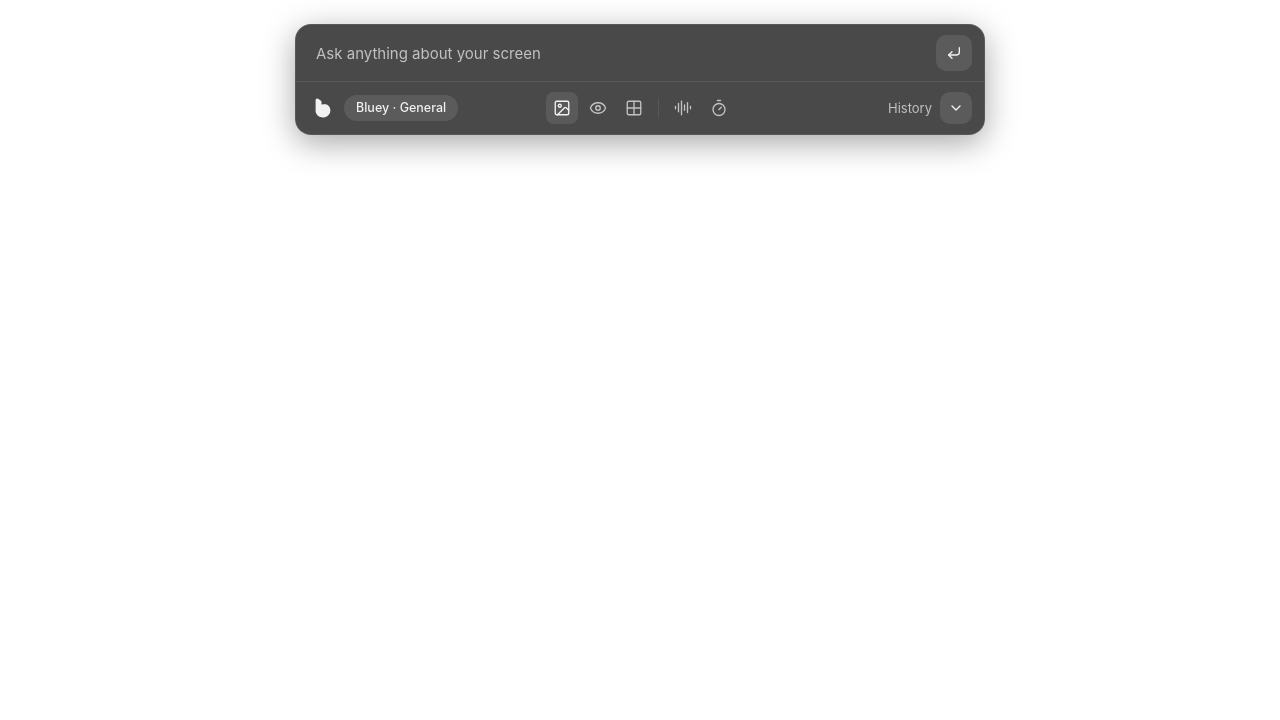
it: HudPanel › submits a typed question to the engine and streams the draft
The image size is (1280, 720).
In the field with placeholder "Ask anything about your screen": (620, 53) [316,25,924,81], type "What is this error?"
Then press Enter
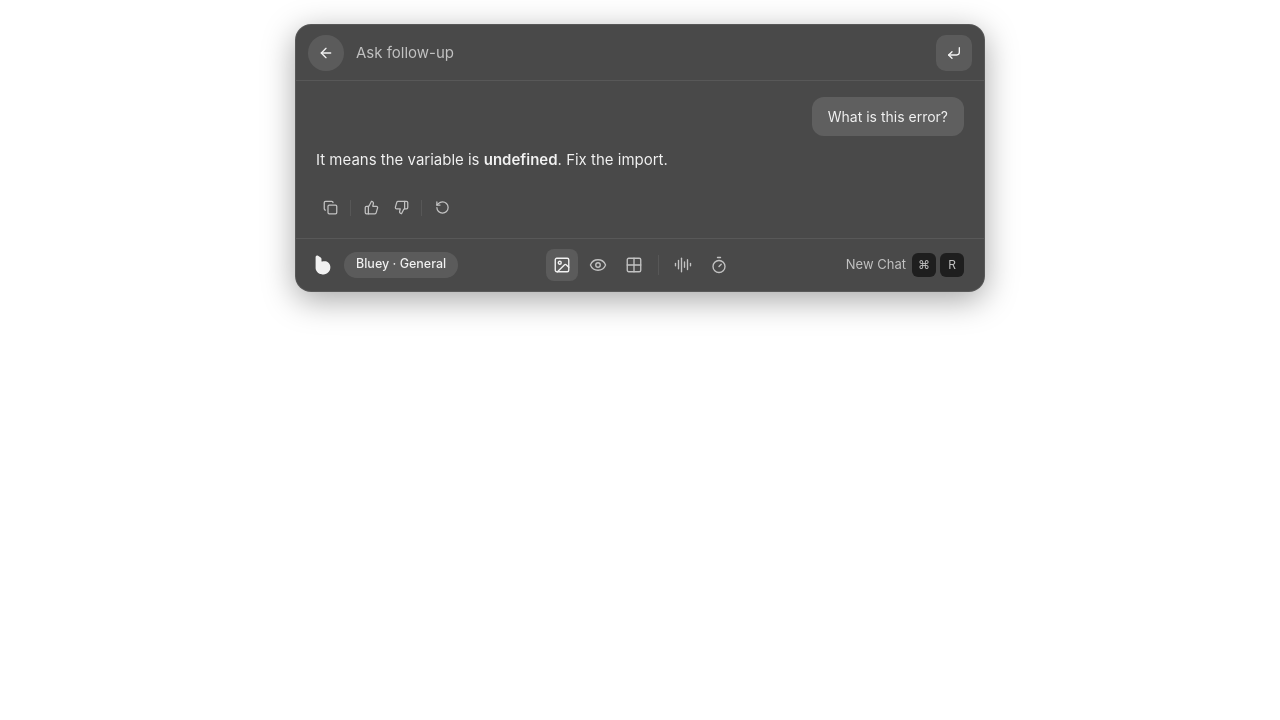
Now the text "What is this error?" is shown, box [812,97,964,136]
Now the field with placeholder "Ask follow-up" is shown, box [356,25,924,80]
Now the text "undefined" is shown, box [484,150,558,169]
